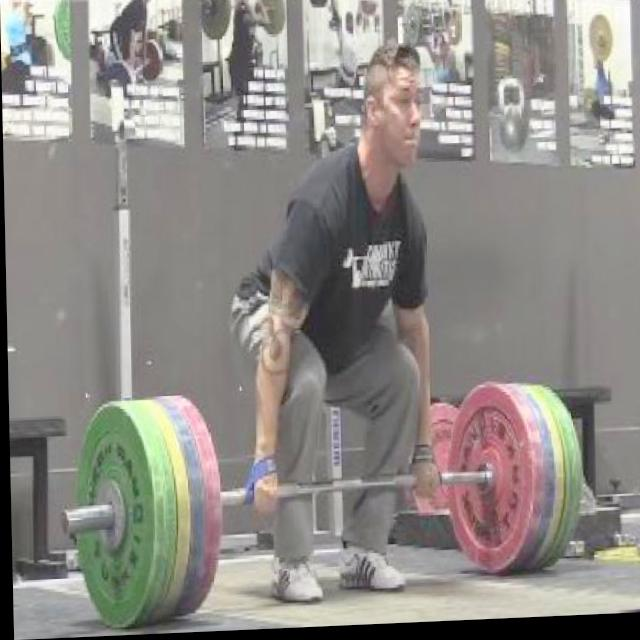barbell: (54, 395, 158, 639)
